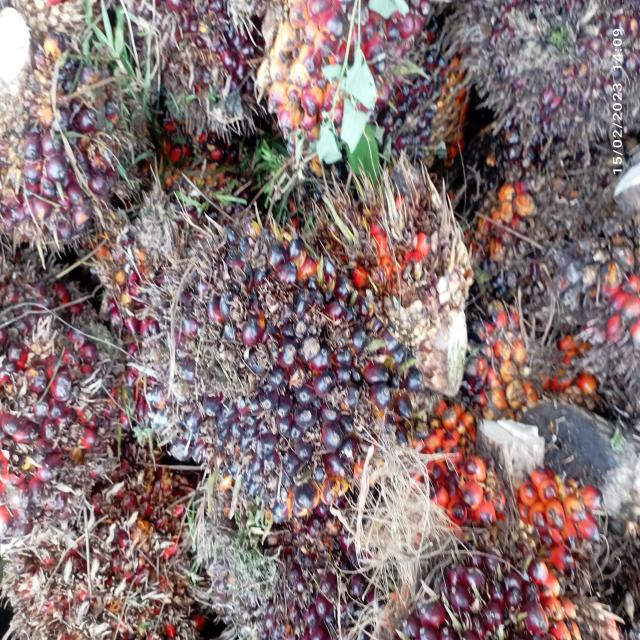fraksi 00: (160, 179, 398, 548)
fraksi 1: (3, 280, 127, 543)
fraksi 4: (420, 360, 598, 590)
